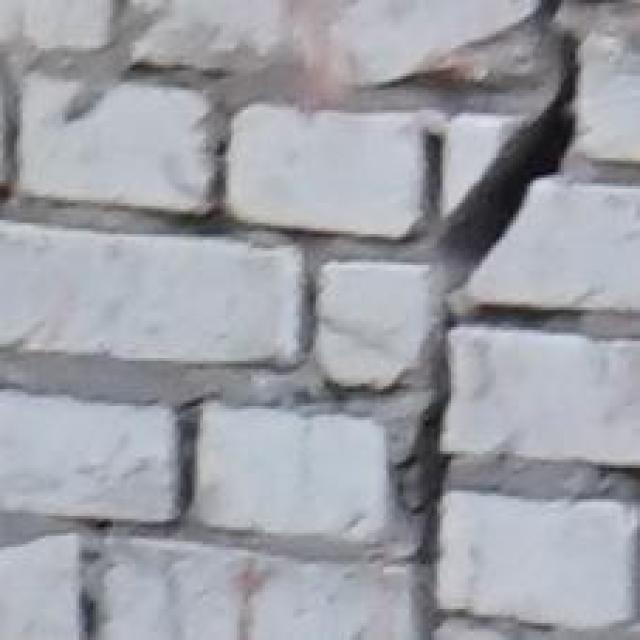Crack: (366, 0, 604, 640)
